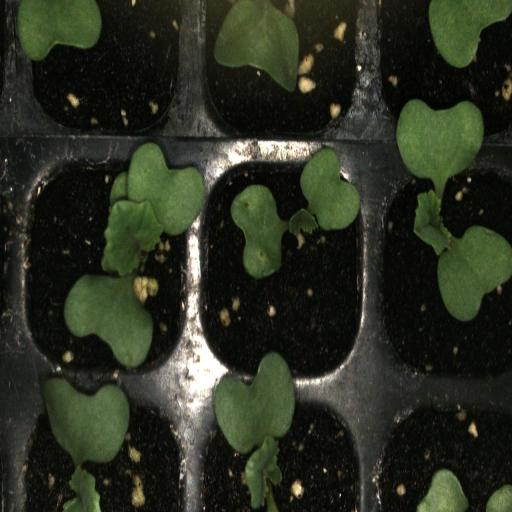Folha: (211, 0, 320, 92), (428, 0, 512, 68), (416, 468, 468, 512)
Germinacao: (13, 152, 196, 384), (194, 156, 371, 393), (374, 152, 512, 394), (15, 381, 194, 512), (195, 386, 371, 512)
